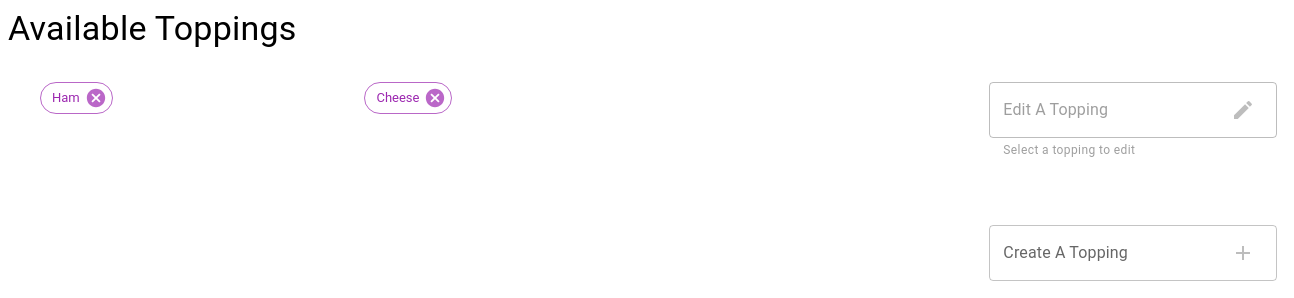
Test case: Owners › clears the edit input when a selected topping is deleted
Click the button "Ham": {"x": 76, "y": 98} [40,82,113,114]
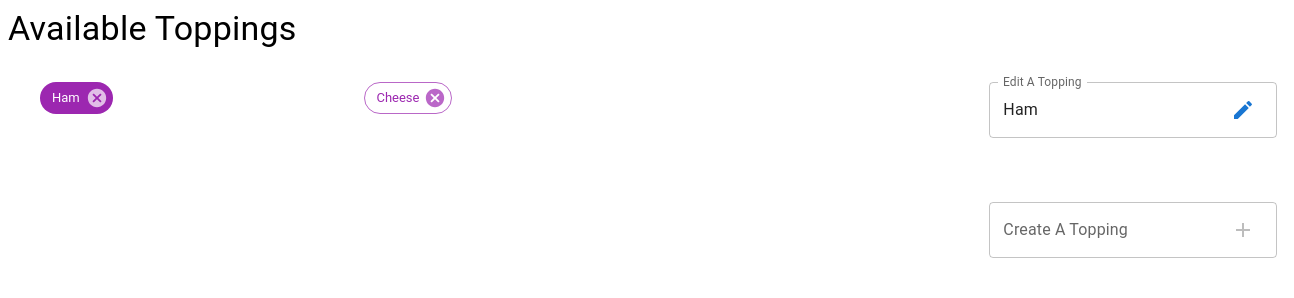
Check: the field labelled "Edit A Topping" holds "Ham", box [989,82,1223,138]
Click the 1st icon with test id "CancelIcon": {"x": 97, "y": 98} [86,87,108,109]
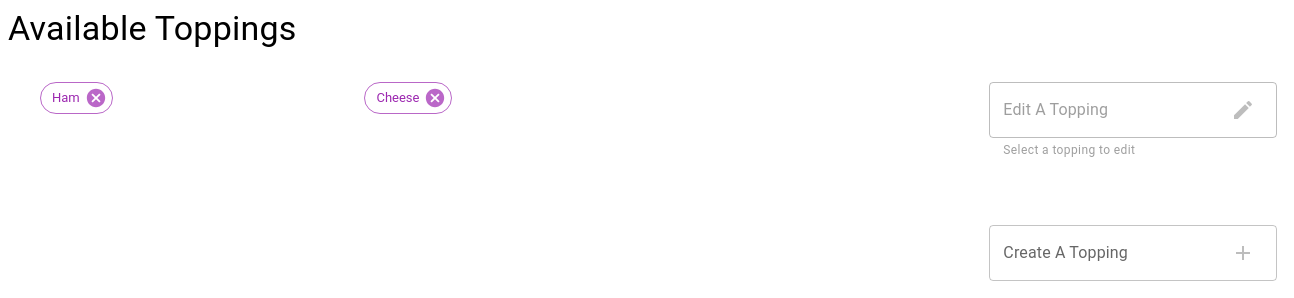
Check: the field labelled "Edit A Topping" is empty, box [989,82,1223,138]
